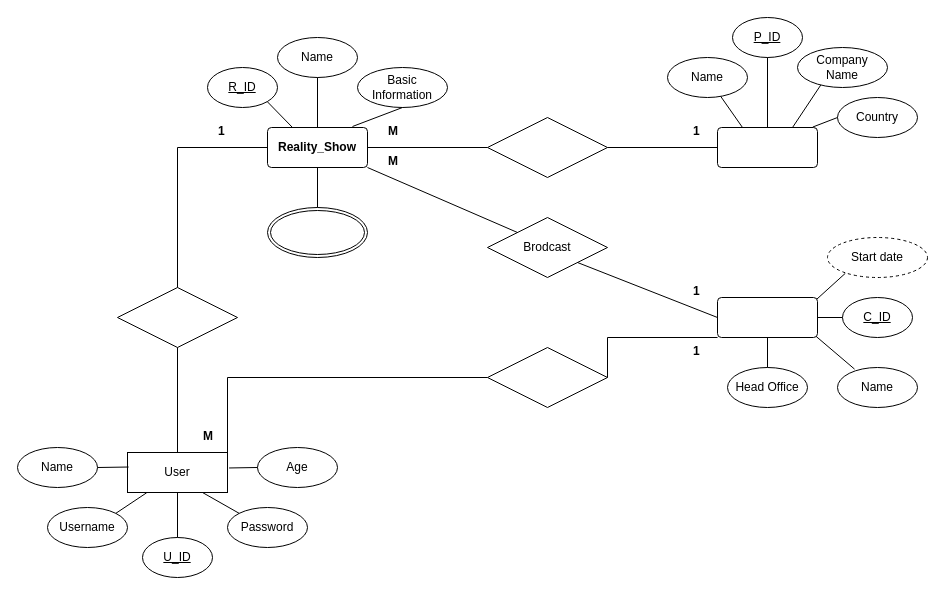
Image size: 945x595. Some labels were removed from this diagram. Each missing label, with the box of its shape:
Channels: (716, 296, 818, 338)
Has: (486, 116, 608, 178)
participants Name: (266, 206, 368, 258)
Producers: (716, 126, 818, 168)
Rate: (116, 286, 238, 348)
Watching: (486, 346, 608, 408)
